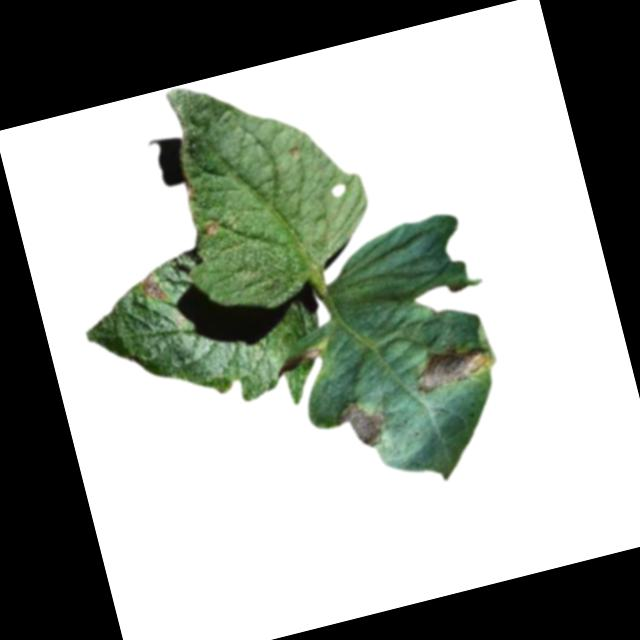Early_blight: (410, 330, 495, 397), (332, 391, 392, 456), (269, 343, 323, 380), (140, 270, 169, 306), (180, 177, 198, 203), (203, 218, 219, 238)
